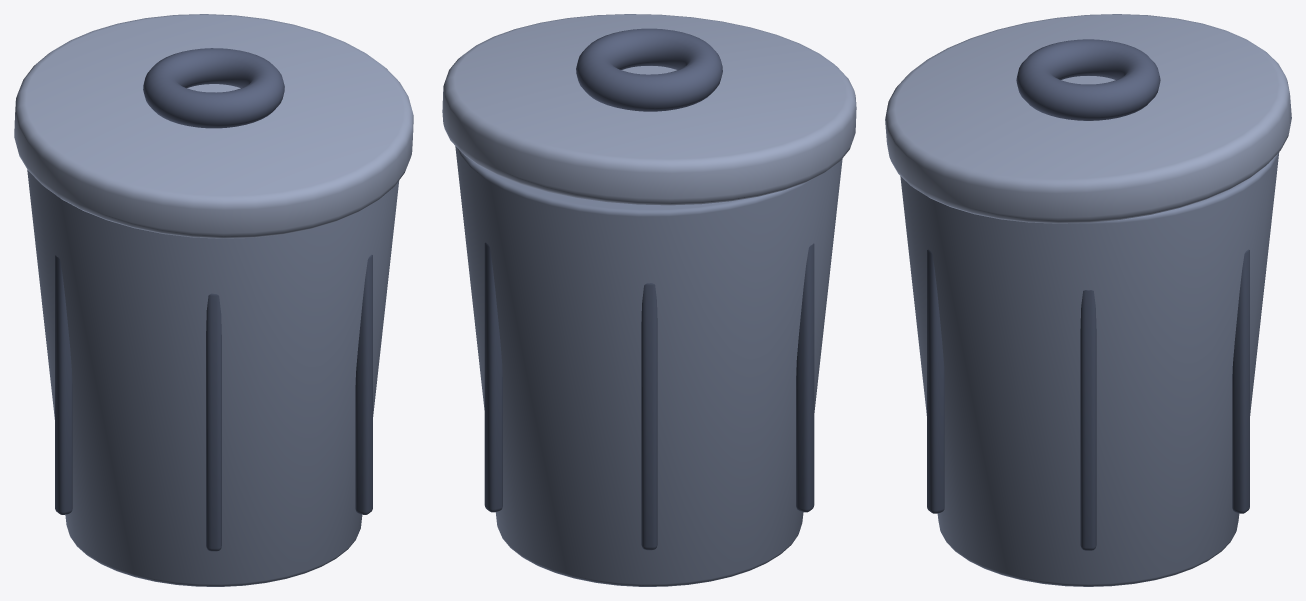
Rendered from bin.glb.
The picture shows the model from 3 angles, left to right: view 1: azimuth 30°, elevation 25°; view 2: azimuth 150°, elevation 25°; view 3: azimuth 270°, elevation 25°; orthographic projection. The views are drawn at different scales.
Parts seen in each view (by area): view 1: body, lid, handle, rib.004, rib.003, rib.005; view 2: body, lid, handle, rib.002, rib.003, rib.001; view 3: body, lid, handle, rib, rib.001, rib.005.
Part boxes in pixels (x1=…): body: x1=27, y1=169, x2=399, y2=586; lid: x1=14, y1=14, x2=413, y2=238; handle: x1=143, y1=48, x2=284, y2=128; rib.004: x1=206, y1=293, x2=221, y2=551; rib.003: x1=55, y1=255, x2=72, y2=514; rib.005: x1=355, y1=254, x2=372, y2=514; body: x1=455, y1=146, x2=842, y2=586; lid: x1=442, y1=14, x2=856, y2=205; handle: x1=576, y1=28, x2=722, y2=111; rib.002: x1=641, y1=283, x2=657, y2=550; rib.003: x1=796, y1=243, x2=814, y2=512; rib.001: x1=484, y1=242, x2=502, y2=512; body: x1=900, y1=152, x2=1279, y2=586; lid: x1=885, y1=14, x2=1291, y2=223; handle: x1=1016, y1=39, x2=1160, y2=120; rib: x1=1080, y1=290, x2=1096, y2=550; rib.001: x1=1232, y1=249, x2=1249, y2=513; rib.005: x1=927, y1=249, x2=944, y2=513.
Bounding box in the file's own units: 0.76 × 0.9541 × 0.7616.
